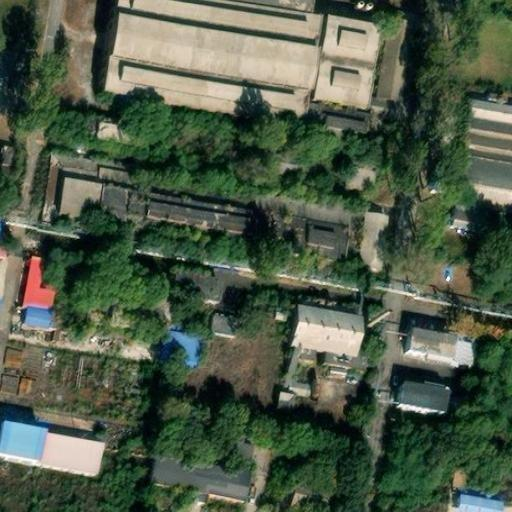building: (103, 0, 381, 130), (91, 174, 253, 255), (244, 198, 384, 276), (144, 463, 246, 512), (286, 314, 358, 365), (53, 167, 100, 231), (35, 437, 101, 479), (375, 30, 410, 109), (459, 136, 512, 173), (395, 387, 448, 422), (19, 257, 52, 312), (404, 336, 454, 366), (170, 281, 215, 310), (467, 100, 512, 129), (154, 341, 189, 376), (467, 193, 512, 217), (97, 111, 132, 139), (284, 476, 312, 506), (343, 164, 371, 191), (230, 433, 256, 460), (21, 308, 48, 333), (456, 497, 499, 512), (274, 384, 298, 410), (285, 373, 313, 394), (205, 317, 233, 337), (3, 340, 26, 364), (0, 364, 19, 389), (0, 140, 14, 173), (451, 463, 466, 485)
